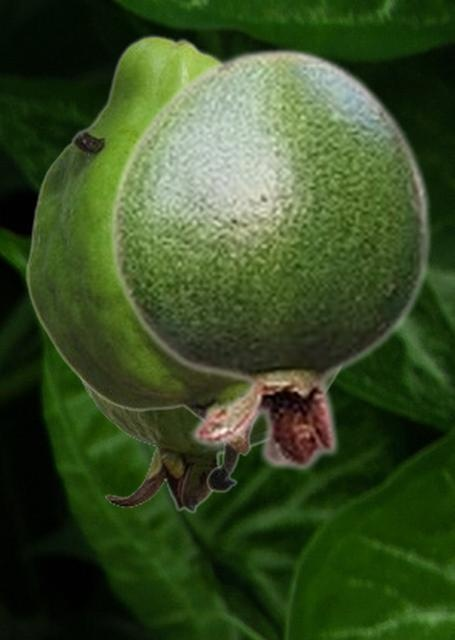guava: (108, 46, 433, 472), (24, 34, 255, 492), (78, 376, 340, 512)
